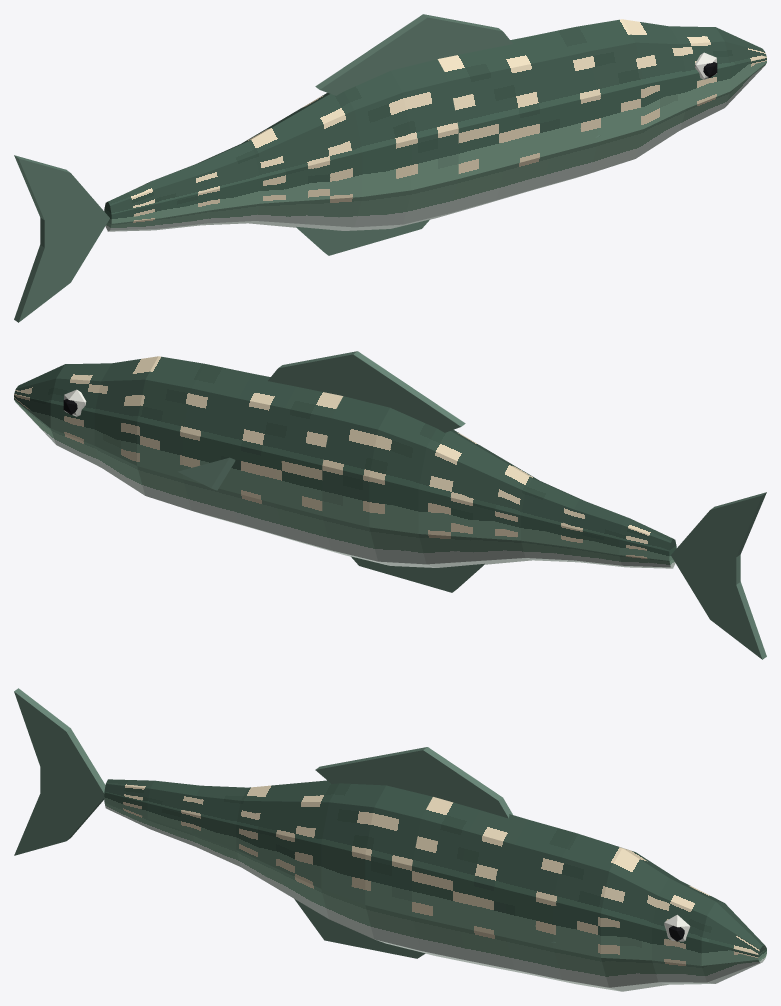
Rendered from lake_trout.glb.
3 renders of one model, top to bottom at view 1: azimuth 30°, elevation 25°; view 2: azimuth 150°, elevation 25°; view 3: azimuth 330°, elevation 25°, orthographic.
Parts seen in each view (by area): view 1: fish_lake_trout; view 2: fish_lake_trout; view 3: fish_lake_trout.
Part boxes in pixels (x1,y1,x2,y2): fish_lake_trout: (14, 14, 766, 322); fish_lake_trout: (14, 351, 766, 659); fish_lake_trout: (14, 688, 766, 991).
Size of the model in its own units: 1.14 by 0.3129 by 0.1501.
4 materials, 1 textured.
